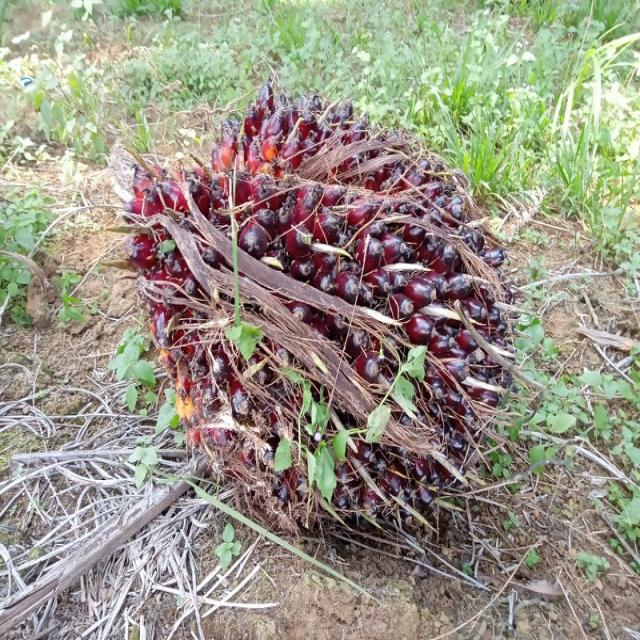fraksi 1: (118, 53, 562, 544)
